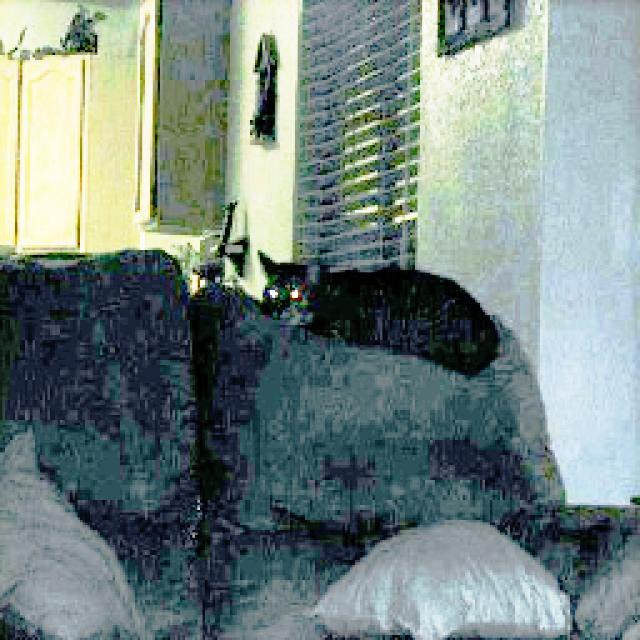cat: (235, 204, 524, 387)
